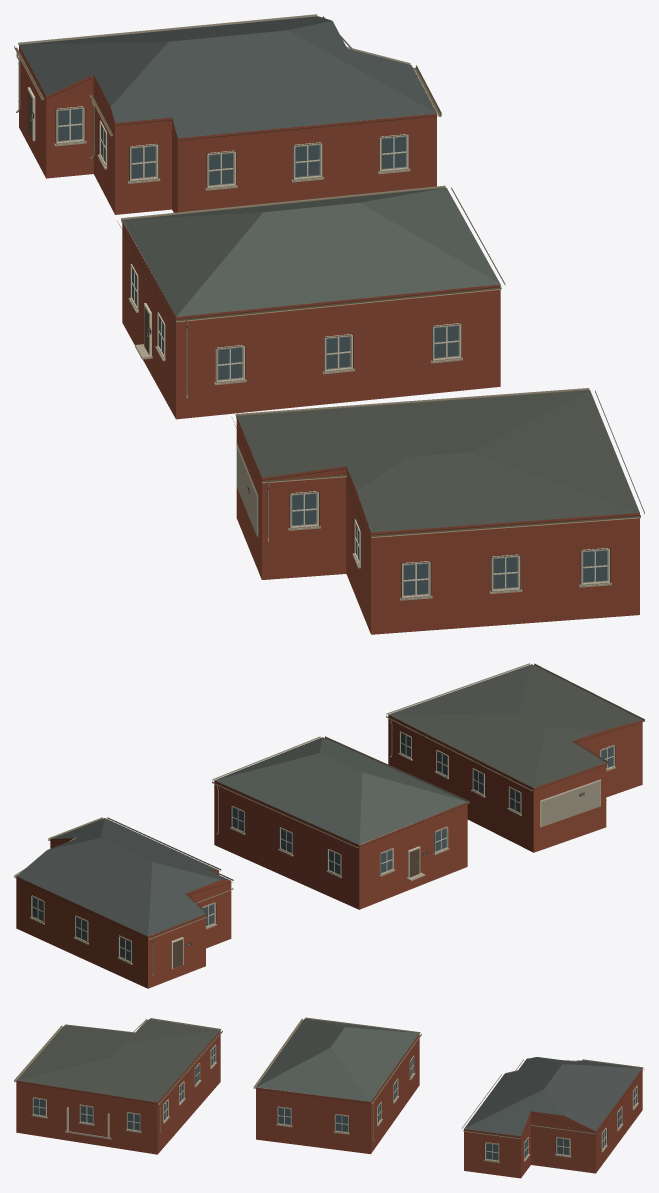
The picture shows the model from 3 angles, top to bottom: view 1: azimuth 30°, elevation 25°; view 2: azimuth 150°, elevation 25°; view 3: azimuth 270°, elevation 25°; orthographic projection. The views are drawn at different scales.
Parts seen in each view (by area): view 1: -1_15_638334080_43; view 2: -1_15_638334080_43; view 3: -1_15_638334080_43.
Part boxes in pixels (box(x1,y1,x2,y2)): -1_15_638334080_43: box(14, 14, 644, 634); -1_15_638334080_43: box(14, 663, 644, 988); -1_15_638334080_43: box(14, 1017, 644, 1178).
Size of the model in its own units: 29.27 by 9.65 by 60.03.
